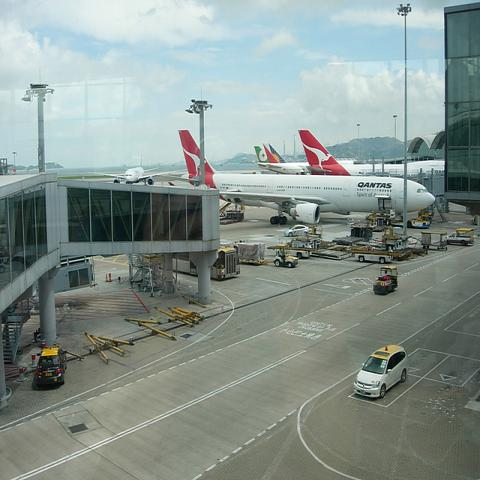car: (353, 344, 408, 399), (35, 348, 68, 389), (274, 245, 298, 268), (284, 224, 309, 237)
truck: (210, 245, 241, 279), (232, 241, 265, 265), (373, 265, 398, 296), (346, 250, 394, 264), (446, 228, 474, 246)
